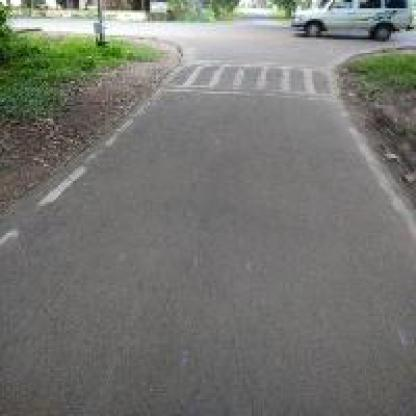Speed Bump: (158, 58, 337, 98)
